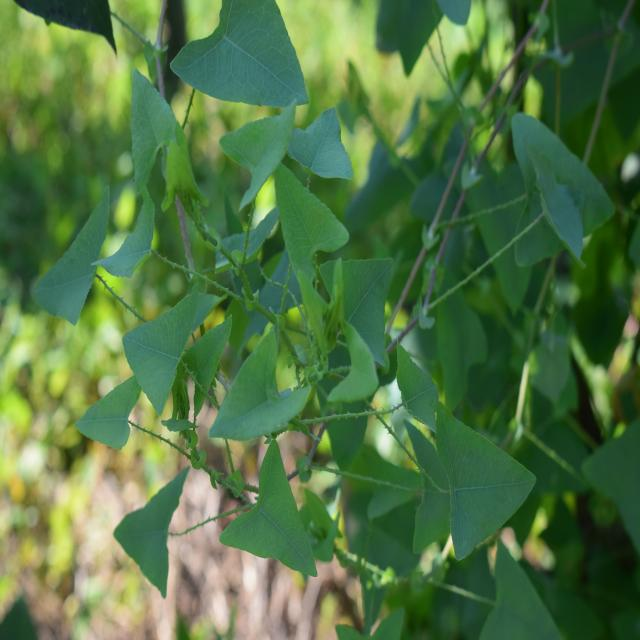Asiatic_Smartweed: (220, 100, 380, 588), (69, 76, 216, 596), (388, 354, 526, 582)
